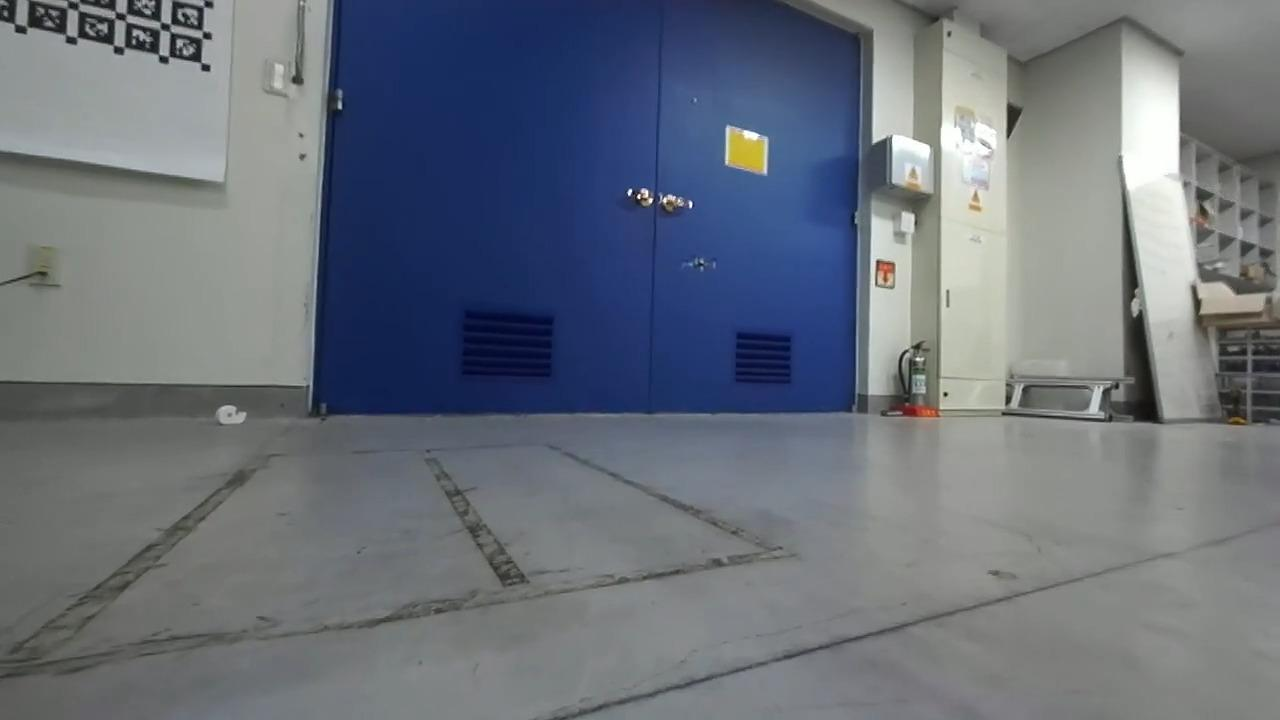crazyflie: (679, 252, 723, 275)
